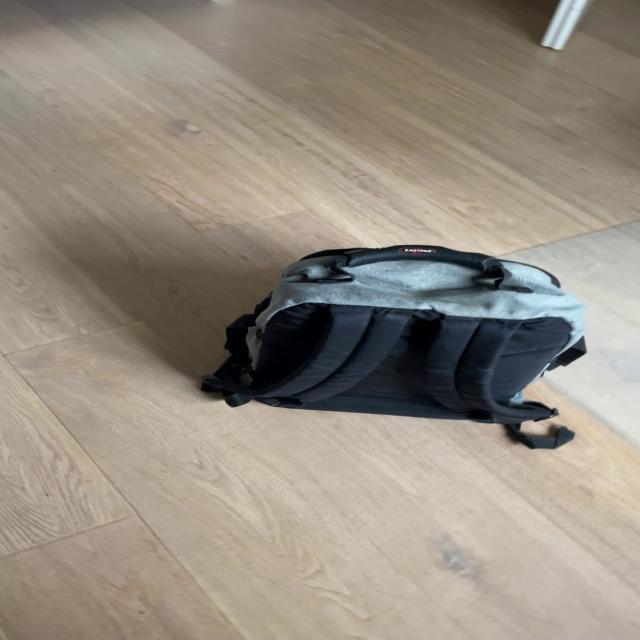backpack: (192, 234, 602, 430)
